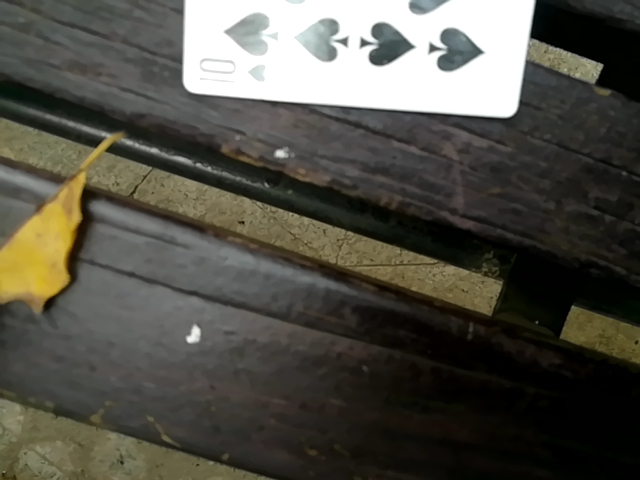ht 10: (168, 0, 561, 112)
